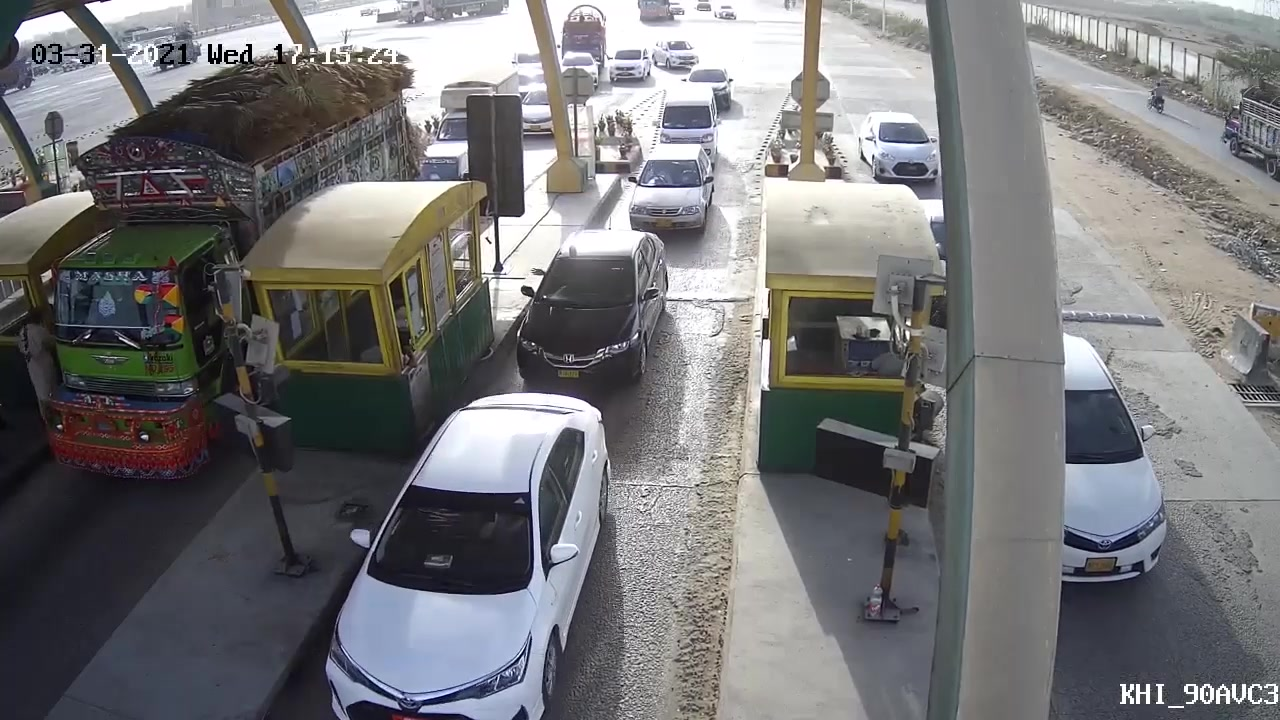F1: (507, 227, 673, 390), (622, 144, 714, 233)
